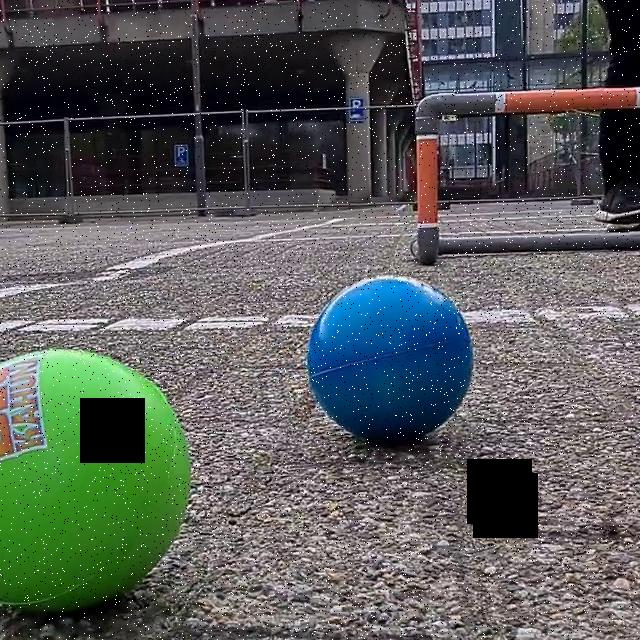ball: (304, 273, 474, 442)
